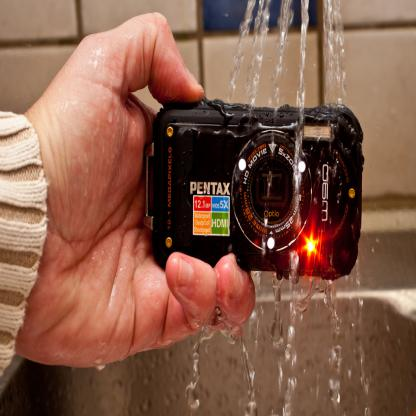Camera: (145, 101, 363, 280)
